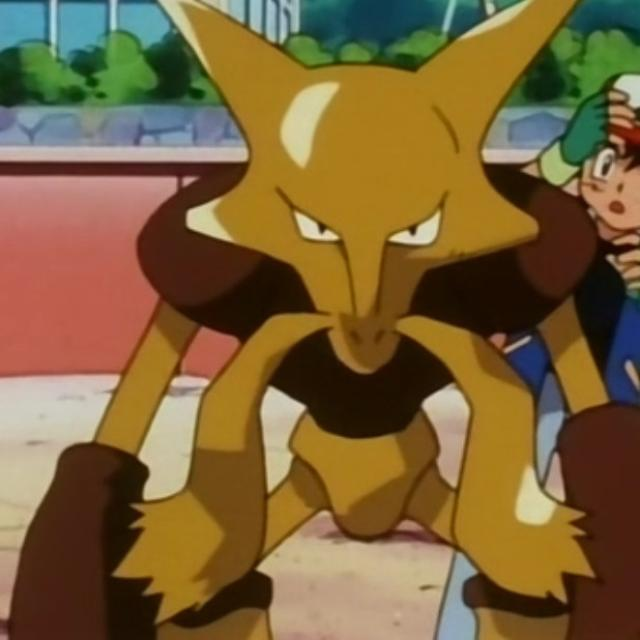Alakazam: (156, 37, 541, 591)
